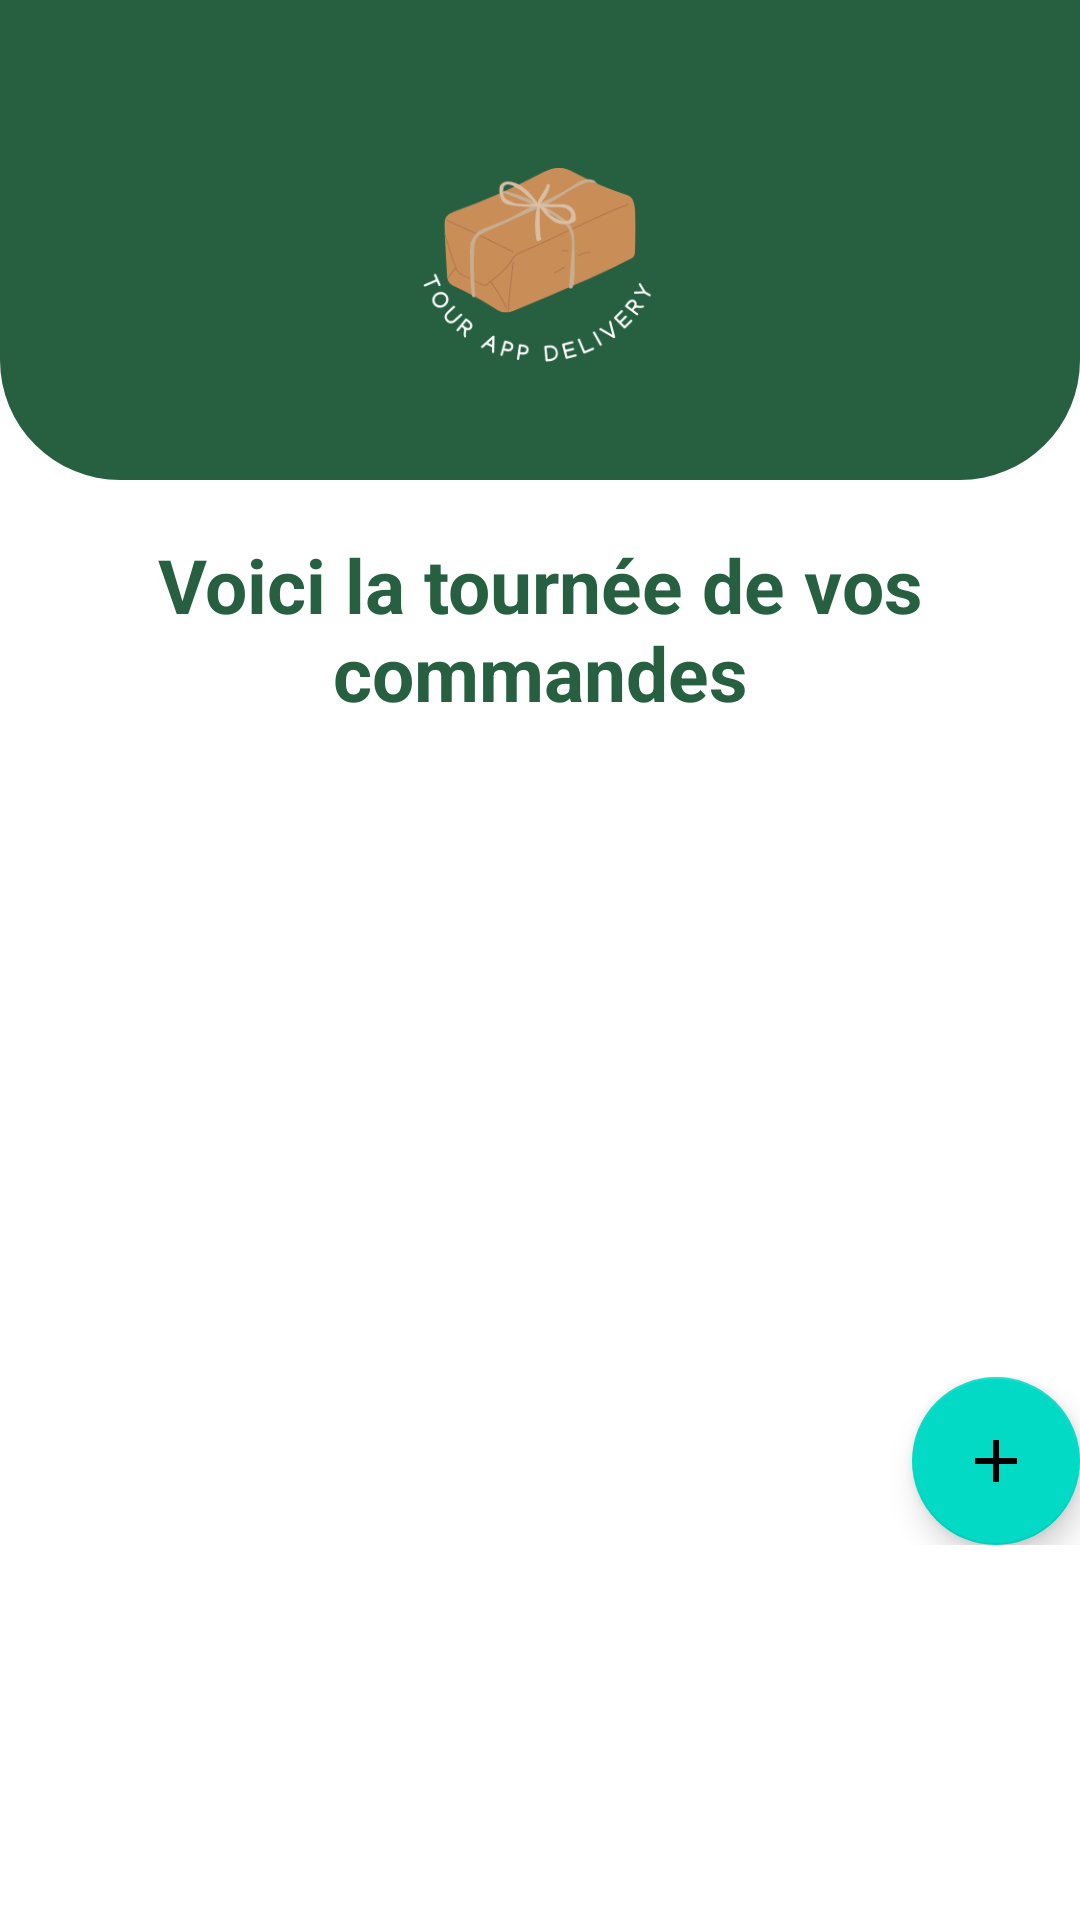

Where icons sit on this 1080w x 1920h app screen, as detection(x1, y1, x2, y2):
add: detection(912, 1377, 1080, 1545)
